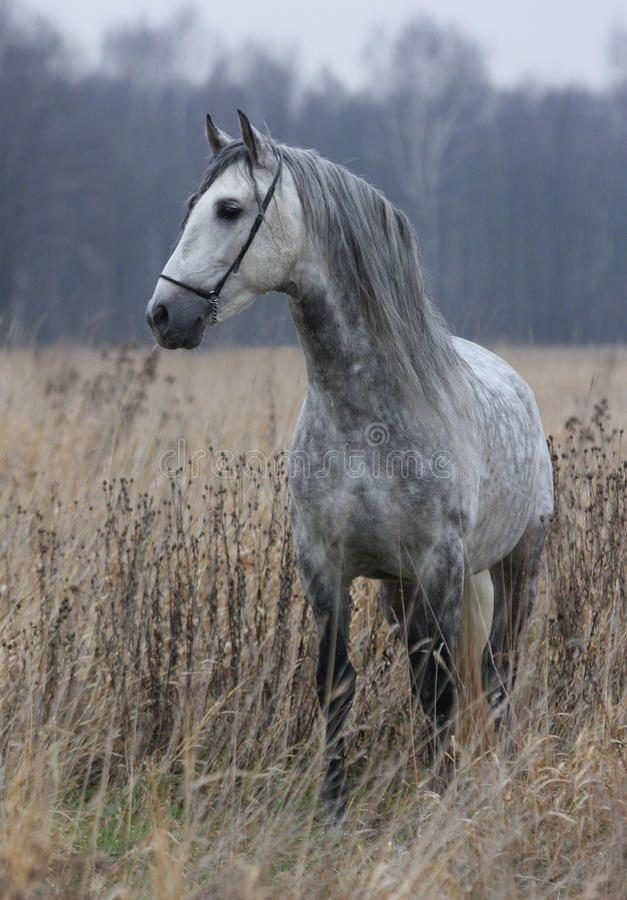horse: (143, 107, 556, 830)
